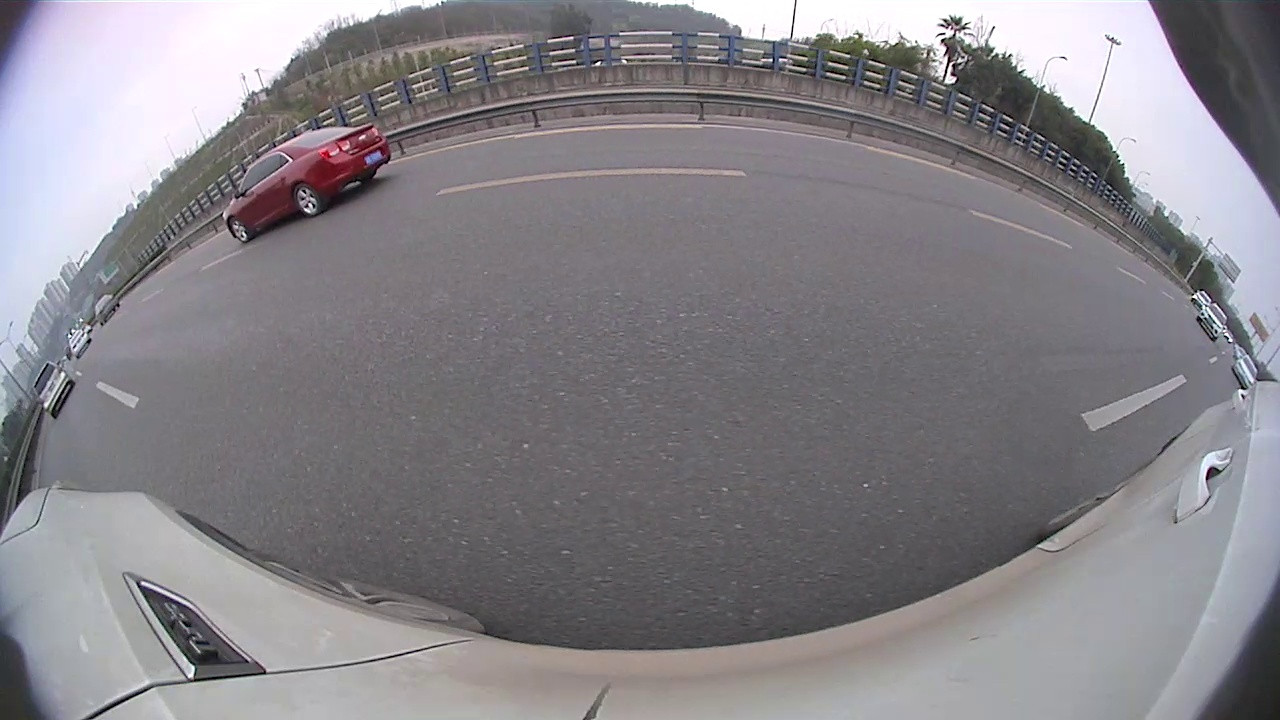car: (94, 147, 465, 377), (861, 156, 1206, 361), (1174, 275, 1277, 411), (598, 130, 727, 225), (478, 154, 567, 212), (783, 163, 863, 207), (553, 154, 598, 190)
front: (865, 201, 901, 249), (439, 197, 467, 249), (783, 180, 790, 193)
rear: (247, 260, 326, 346), (1032, 263, 1094, 344), (810, 181, 822, 202), (541, 182, 550, 206)
